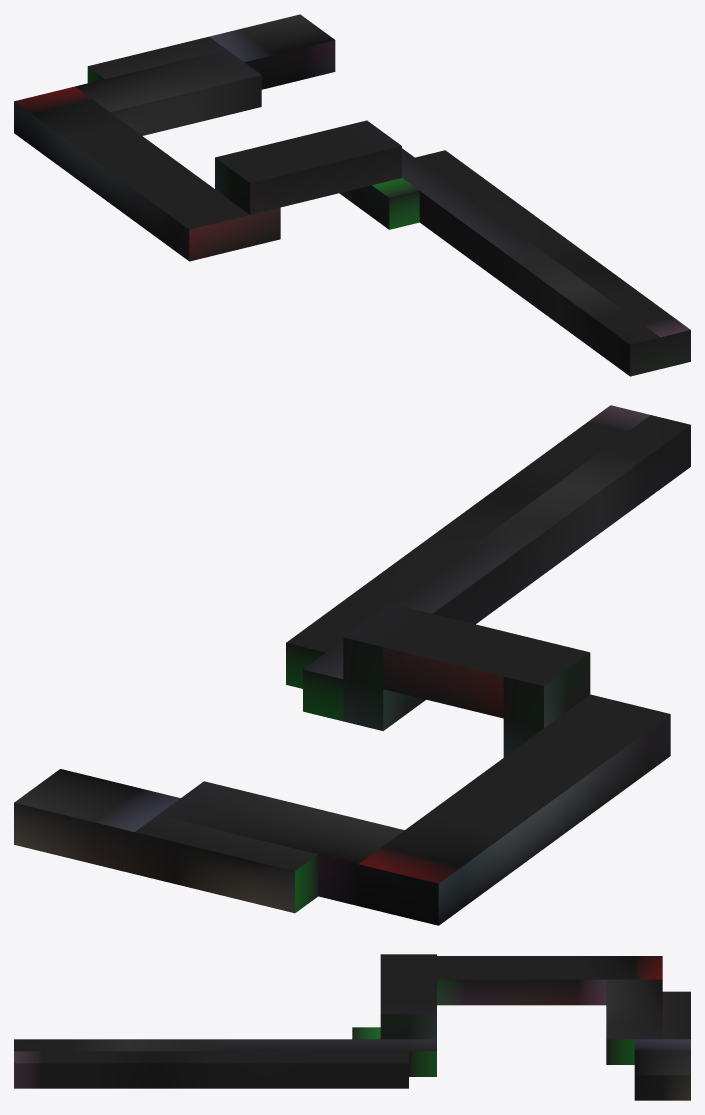
Rendered from Cable_U_00.fbx.
3 renders of one model, top to bottom at view 1: azimuth 30°, elevation 25°; view 2: azimuth 150°, elevation 25°; view 3: azimuth 270°, elevation 25°, orthographic. The views are drawn at different scales.
Visible parts, largest first — view 1: Cable_U_00; view 2: Cable_U_00; view 3: Cable_U_00.
Boxes of the visible parts, x1,y1,x2,y2 form: Cable_U_00: (14, 14, 690, 376); Cable_U_00: (14, 405, 690, 925); Cable_U_00: (14, 954, 690, 1100).
Size of the model in its own units: 50 by 10 by 120.
